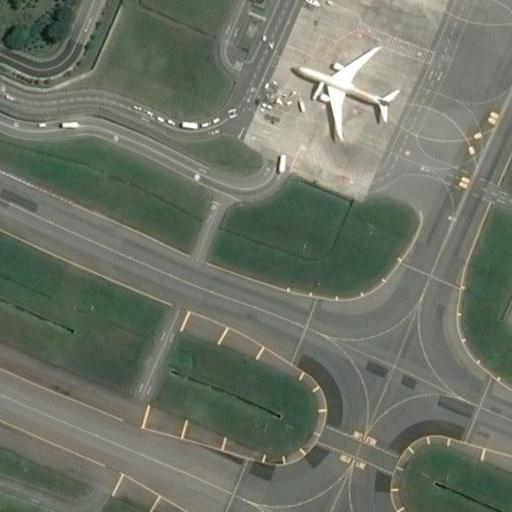Aircraft: (293, 36, 399, 143)
